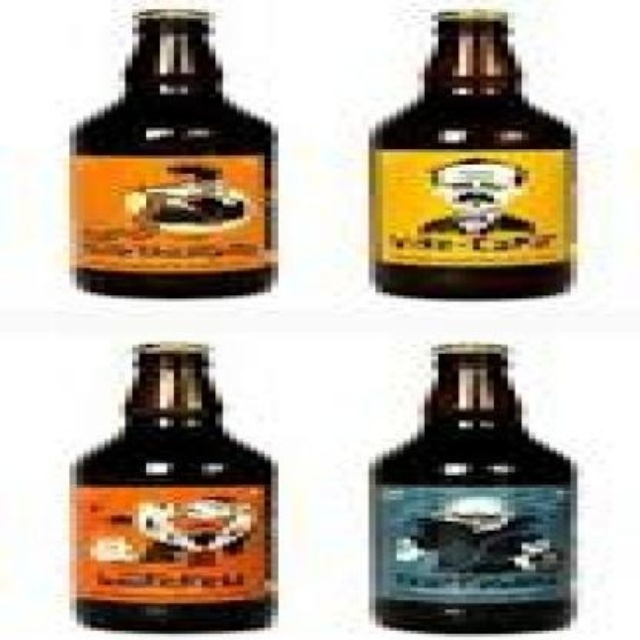trash: (71, 9, 275, 295), (371, 11, 574, 297), (371, 345, 574, 631), (74, 345, 275, 629)
